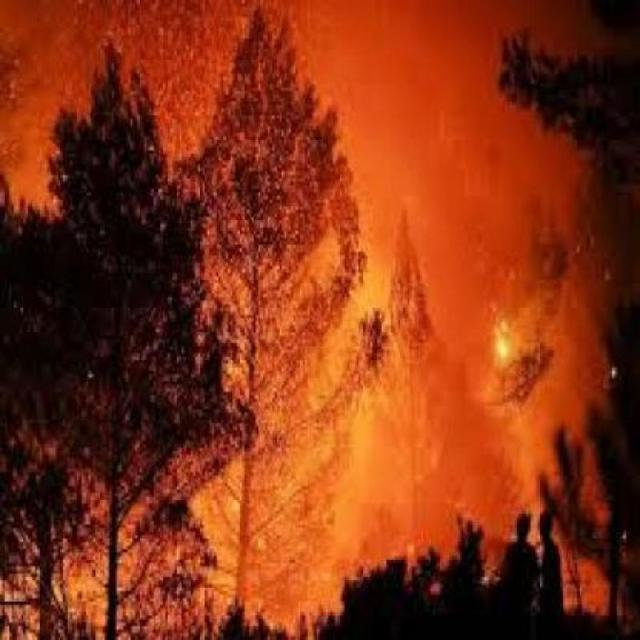Fire: (20, 121, 640, 640)
